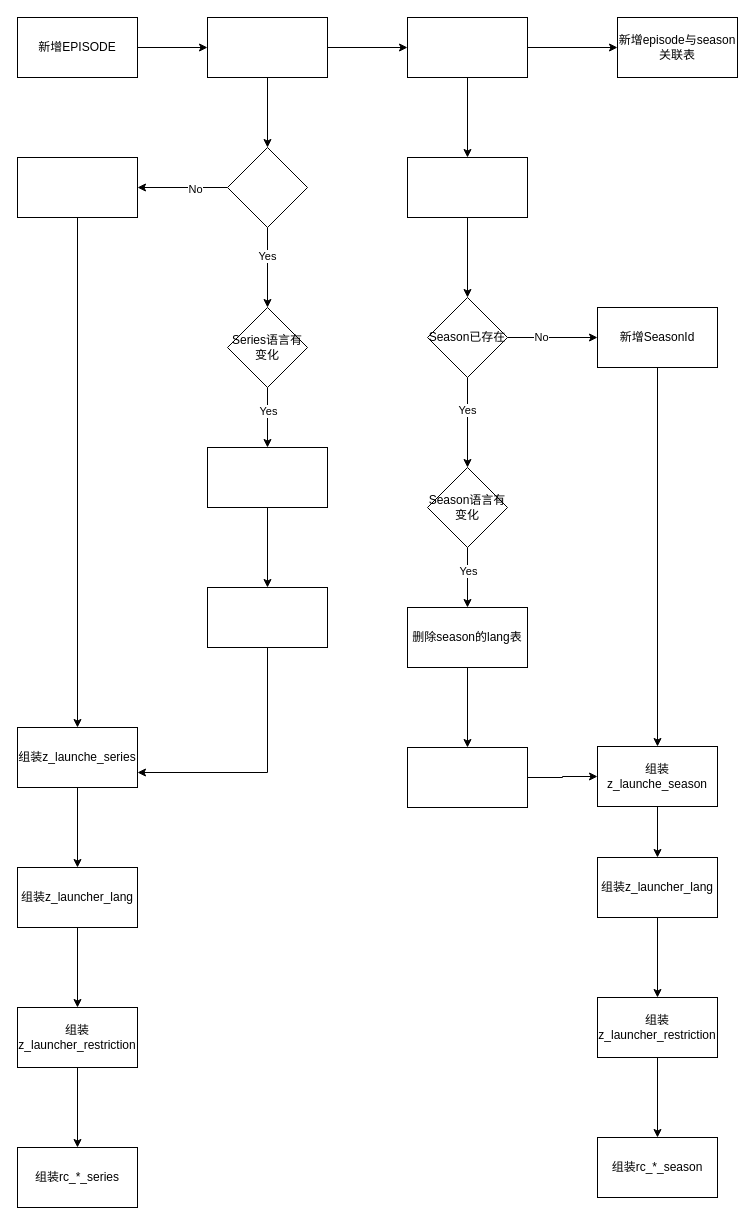
This 755x1225 diagram has some shape labels left out. The box of each missing label's shape, as (x1, y1, x2, y2) in pixels:
Series已存在: (226, 146, 308, 228)
删除rc_*_season: (406, 746, 528, 808)
删除rc_*_series: (206, 586, 328, 648)
删除series的lang表: (206, 446, 328, 508)
处理Season: (406, 16, 528, 78)
处理Series: (206, 16, 328, 78)
新增SeriesId: (16, 156, 138, 218)
根据seasonNumber获取Season源id: (406, 156, 528, 218)
